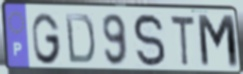9: (101, 12, 130, 68)
D: (63, 12, 97, 67)
G: (31, 11, 63, 66)
M: (195, 12, 242, 71)
S: (132, 12, 168, 70)
T: (169, 13, 197, 69)
